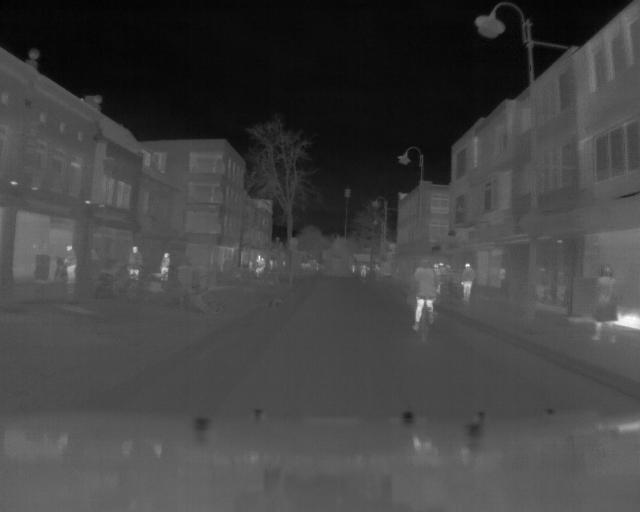person: (410, 256, 437, 331), (593, 260, 617, 343), (459, 257, 474, 304), (62, 240, 78, 282), (127, 242, 142, 285), (158, 245, 171, 281), (253, 252, 267, 279)
